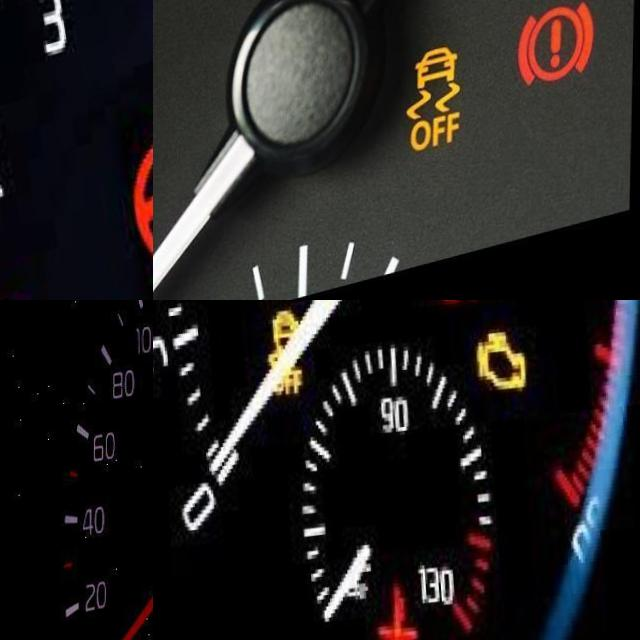Electronic Power Steering: (426, 300, 483, 319)
High Engine Coolant Temperature: (367, 588, 421, 640)
